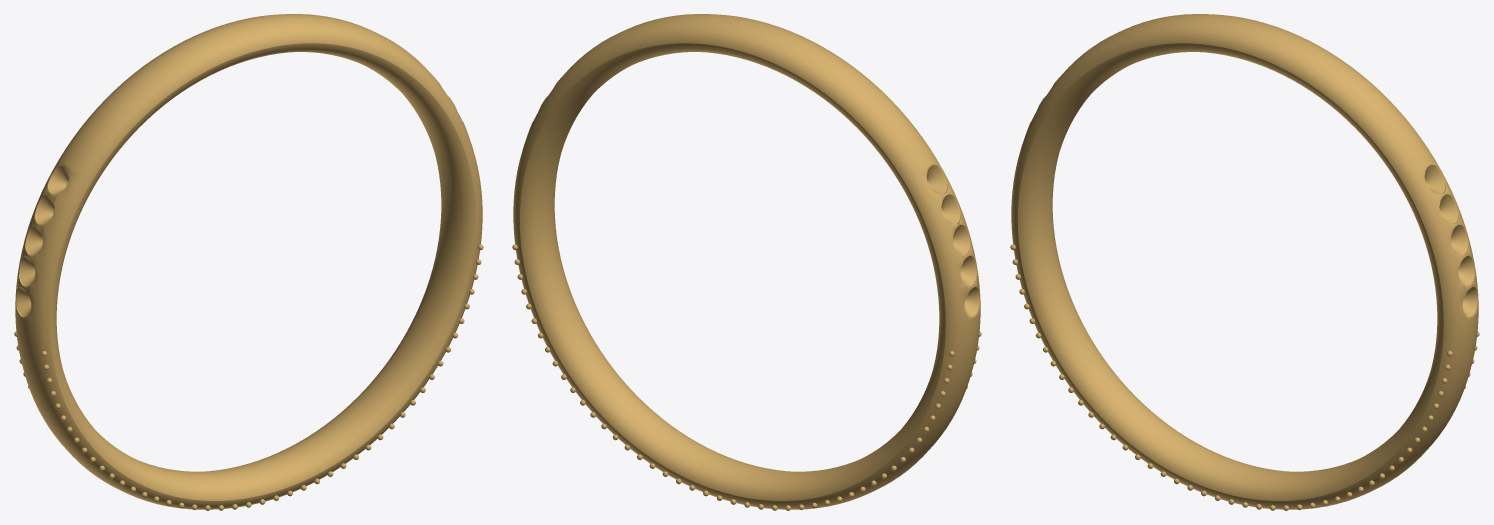
Rendered from vintage-micro-pave-wide.glb.
3 renders of one model, left to right at view 1: azimuth 30°, elevation 25°; view 2: azimuth 150°, elevation 25°; view 3: azimuth 330°, elevation 25°, orthographic.
Visible parts, largest first — view 1: Band; view 2: Band; view 3: Band.
Boxes of the visible parts, <box> form: Band: <box>15,14,482,509</box>; Band: <box>513,14,980,509</box>; Band: <box>1011,14,1478,509</box>.
Bounding box in the file's own units: 19.6 × 19.6 × 2.22.
